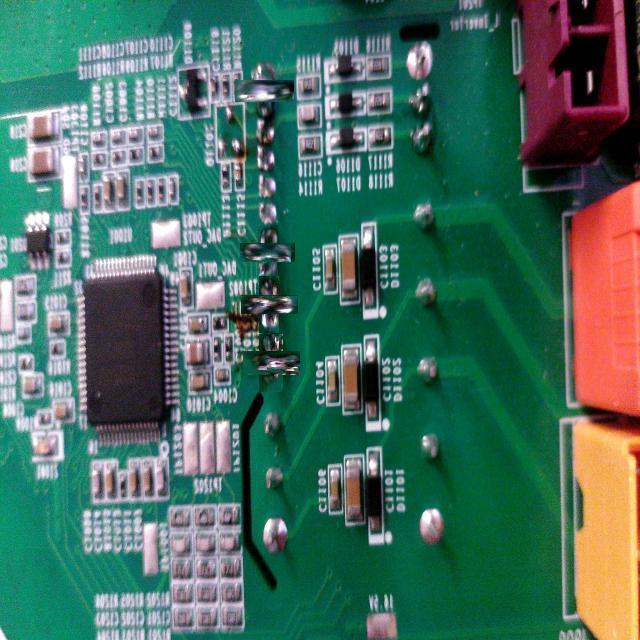Short_circuit: (250, 342, 292, 383), (244, 70, 285, 111), (250, 285, 289, 324), (249, 234, 287, 271)
